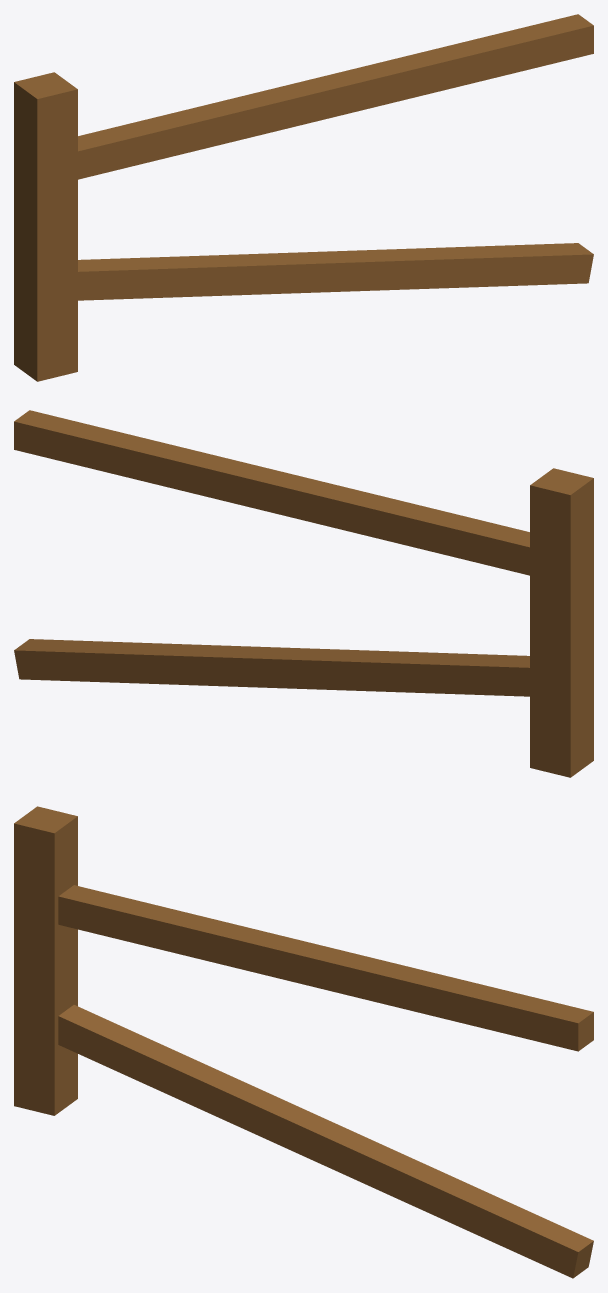
Rendered from VallaB.fbx.
The picture shows the model from 3 angles, top to bottom: view 1: azimuth 30°, elevation 25°; view 2: azimuth 150°, elevation 25°; view 3: azimuth 330°, elevation 25°; orthographic projection.
Parts seen in each view (by area): view 1: VallaC; view 2: VallaC; view 3: VallaC.
Boxes of the visible parts, x1,y1,x2,y2 form: VallaC: [14, 14, 593, 381]; VallaC: [14, 410, 593, 777]; VallaC: [14, 806, 593, 1278].
Size of the model in its own units: 156 by 85.59 by 11.25.
